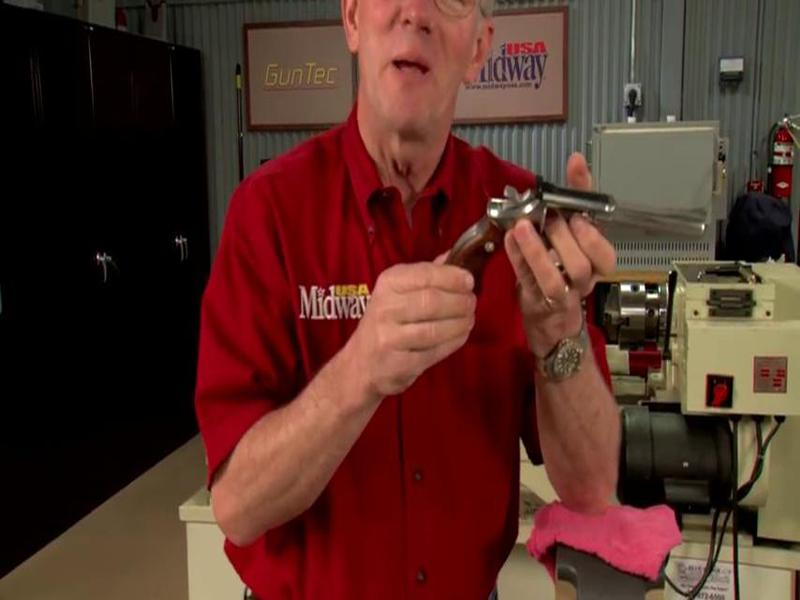Revolver: (425, 155, 721, 344)
